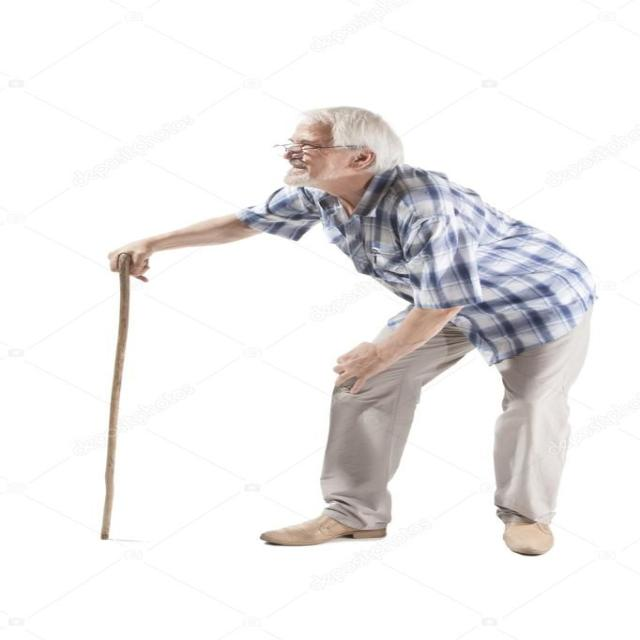idoso em pe: (241, 106, 607, 559)
